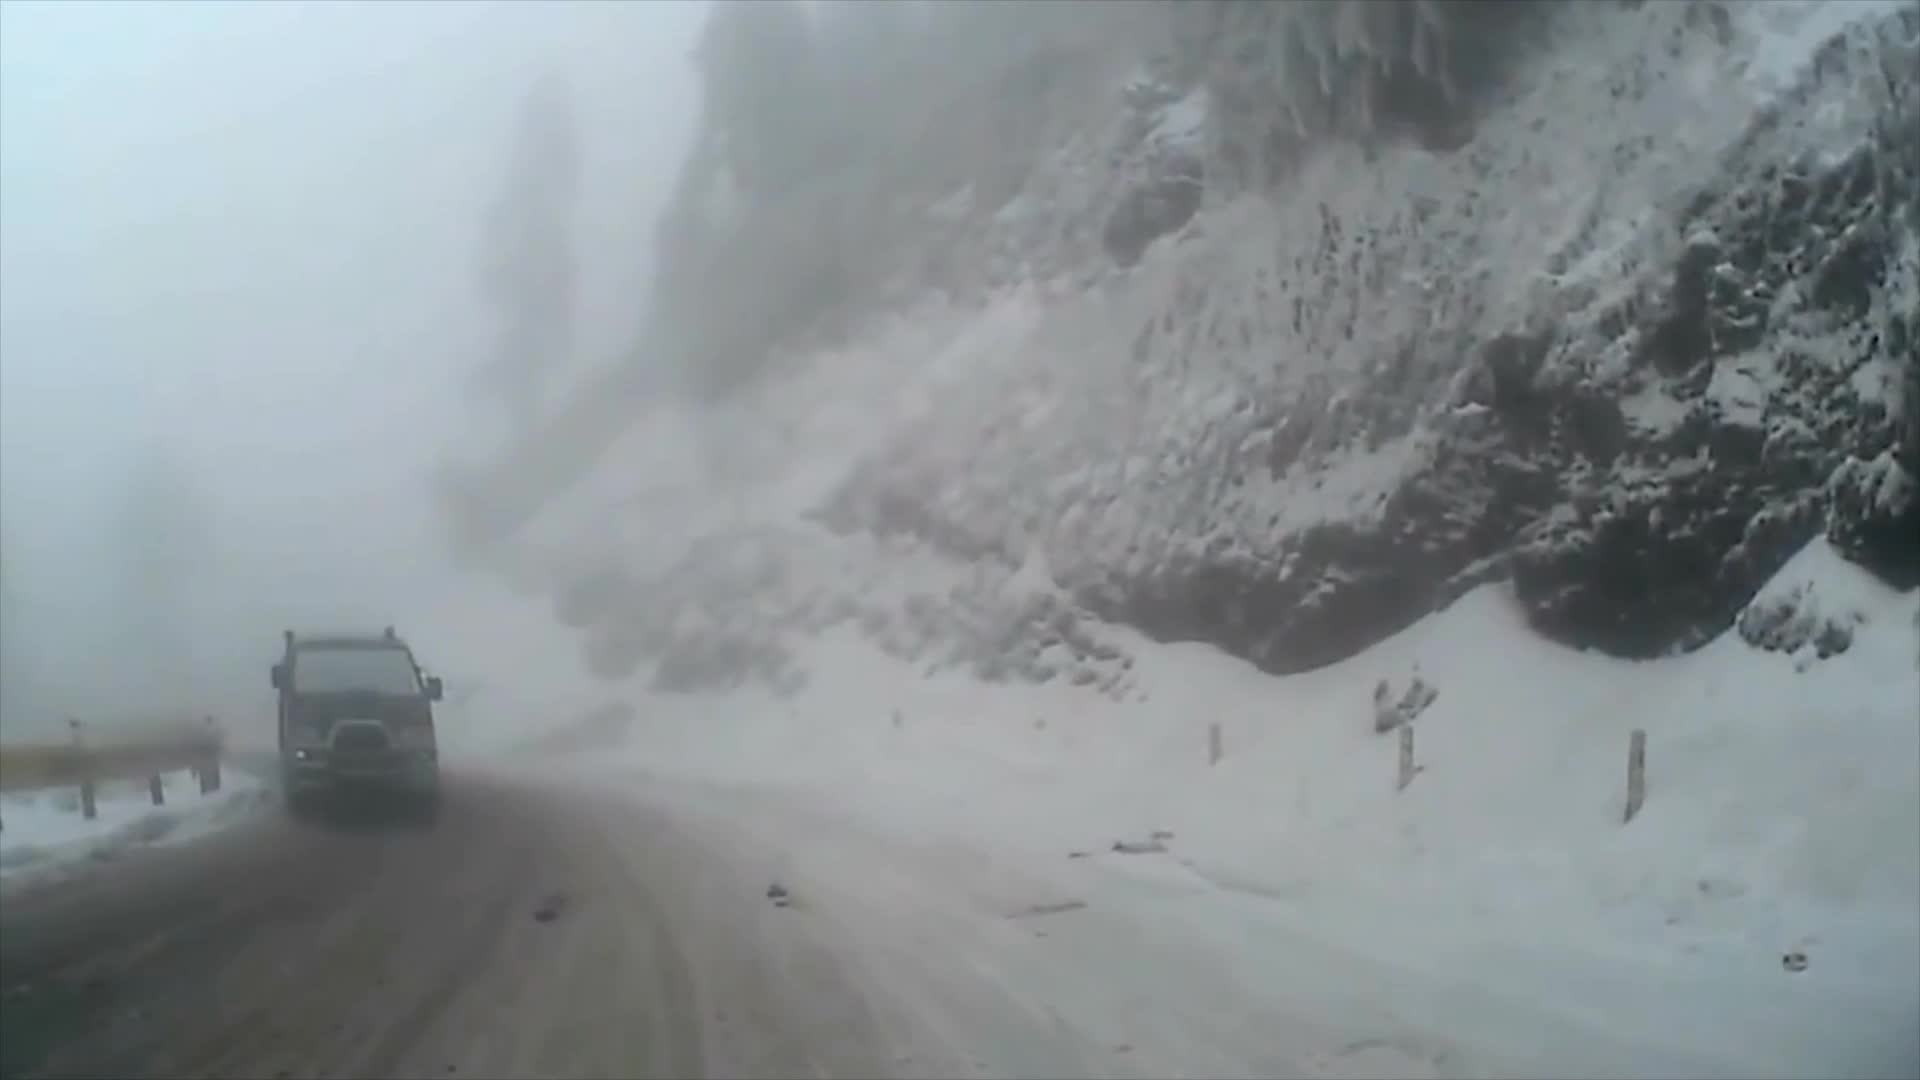vehicle: (266, 622, 443, 823)
